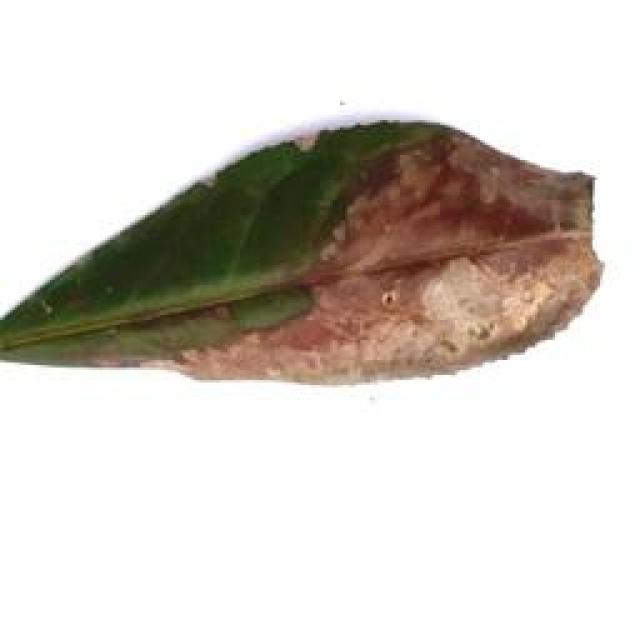Gray Blight: (0, 108, 603, 387)
